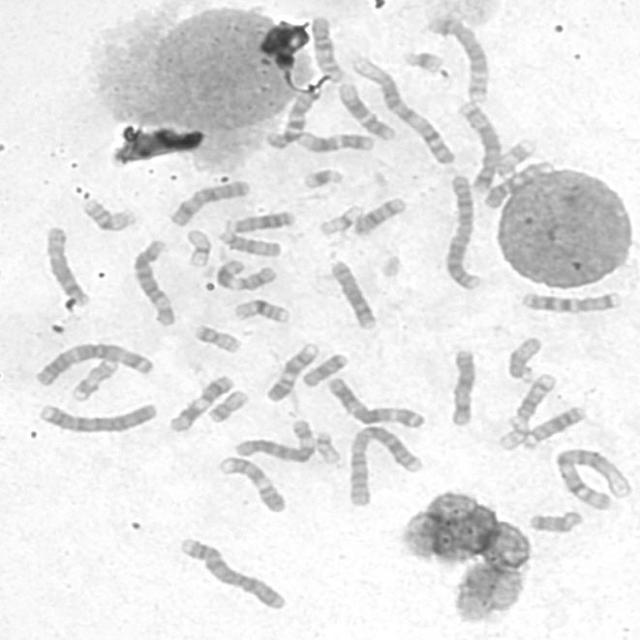A1: (346, 52, 458, 166), (550, 444, 634, 511)
A2: (341, 419, 426, 508), (441, 170, 484, 292)
A3: (29, 338, 156, 388), (321, 373, 427, 430)
B4: (174, 534, 288, 612), (33, 398, 160, 436)
B5: (423, 12, 492, 104), (453, 96, 503, 195)
C10: (479, 157, 552, 210), (308, 15, 347, 81)
C11: (164, 370, 236, 434), (211, 256, 279, 293)
C12: (333, 78, 398, 141), (293, 130, 377, 153)
C6: (128, 235, 179, 328), (230, 415, 316, 464)
C7: (264, 89, 322, 151), (516, 287, 623, 315)
C8: (40, 221, 91, 308), (325, 256, 379, 331)
C9: (214, 452, 289, 516), (262, 339, 321, 404)
D13: (518, 402, 588, 452), (223, 207, 296, 234)
D14: (505, 369, 559, 429), (348, 193, 408, 238)
D15: (214, 227, 284, 258), (503, 333, 544, 383)
E16: (76, 194, 138, 232), (230, 295, 292, 325)
E17: (66, 353, 119, 402), (493, 134, 537, 179)
E18: (297, 348, 350, 388), (524, 507, 585, 535)
F19: (315, 200, 364, 237), (181, 226, 213, 268)
F20: (189, 320, 243, 355), (203, 386, 251, 424)
G21: (398, 45, 446, 75), (297, 164, 346, 191)
G22: (312, 428, 343, 466), (494, 420, 528, 451)
X: (166, 176, 252, 228), (446, 344, 478, 428)
